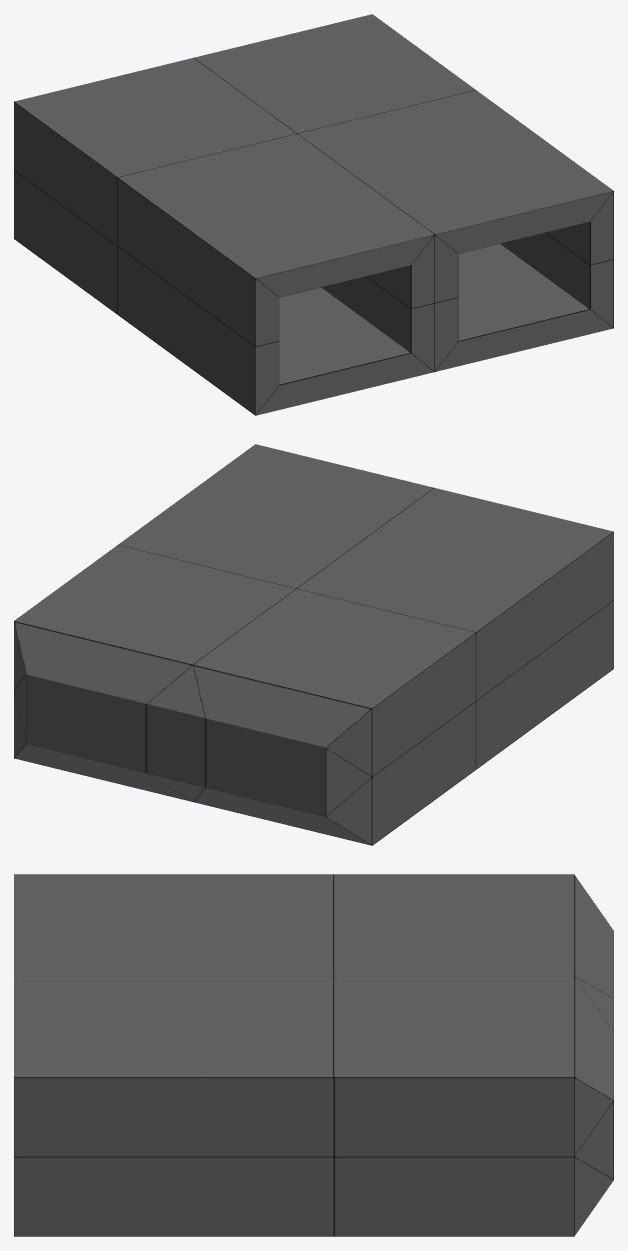
The model's file is sam_attachment.obj.
3 renders of one model, top to bottom at view 1: azimuth 30°, elevation 25°; view 2: azimuth 150°, elevation 25°; view 3: azimuth 270°, elevation 25°, orthographic. The views are drawn at different scales.
Visible parts, largest first — view 1: missle_tubes_Cube.003; view 2: missle_tubes_Cube.003; view 3: missle_tubes_Cube.003.
Part boxes in pixels (x1,y1,x2,y2): missle_tubes_Cube.003: [14, 14, 613, 415]; missle_tubes_Cube.003: [14, 444, 613, 845]; missle_tubes_Cube.003: [14, 874, 613, 1236].
Bounding box in the file's own units: 1.5 × 0.5494 × 1.88.
1 material, 1 textured.
